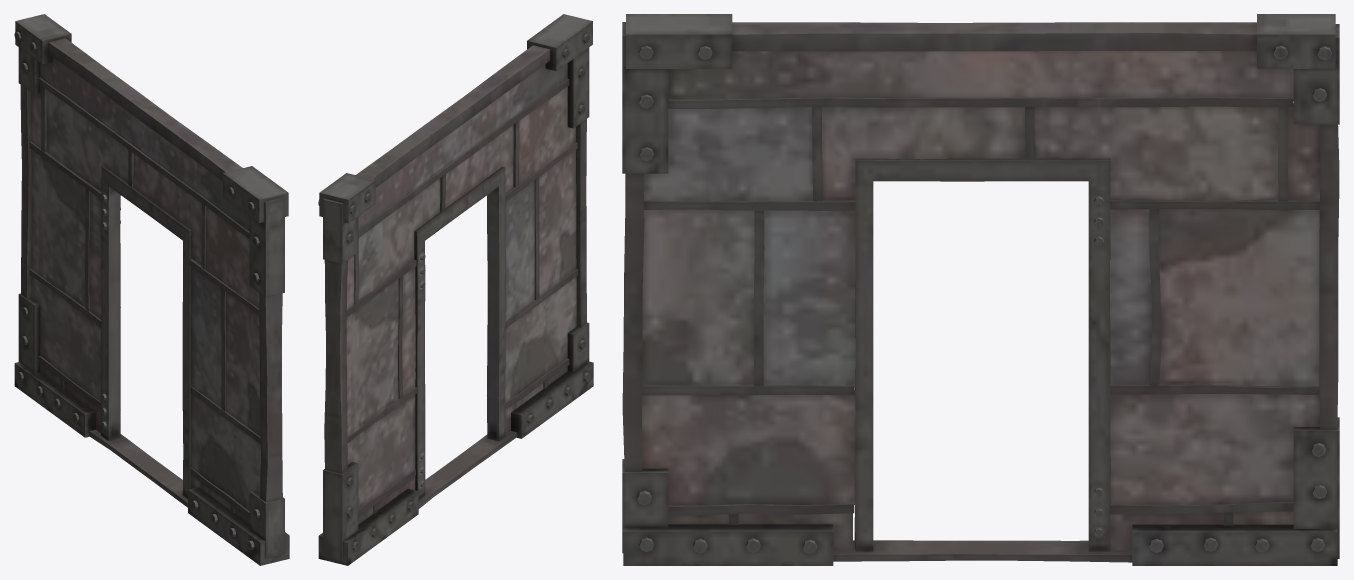
File: SM_Doorbase_Iron_152b83.glb
3 renders of one model, left to right at view 1: azimuth 30°, elevation 25°; view 2: azimuth 150°, elevation 25°; view 3: azimuth 270°, elevation 25°, orthographic. The views are drawn at different scales.
Size of the model in its own units: 0.3341 by 3.3 by 4.04.
1 material, 1 textured.
